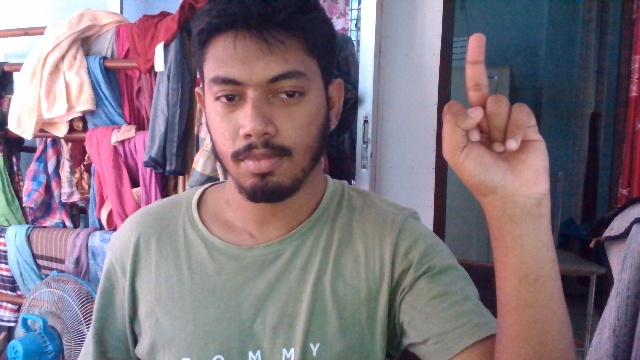fucku: (440, 28, 560, 212)
